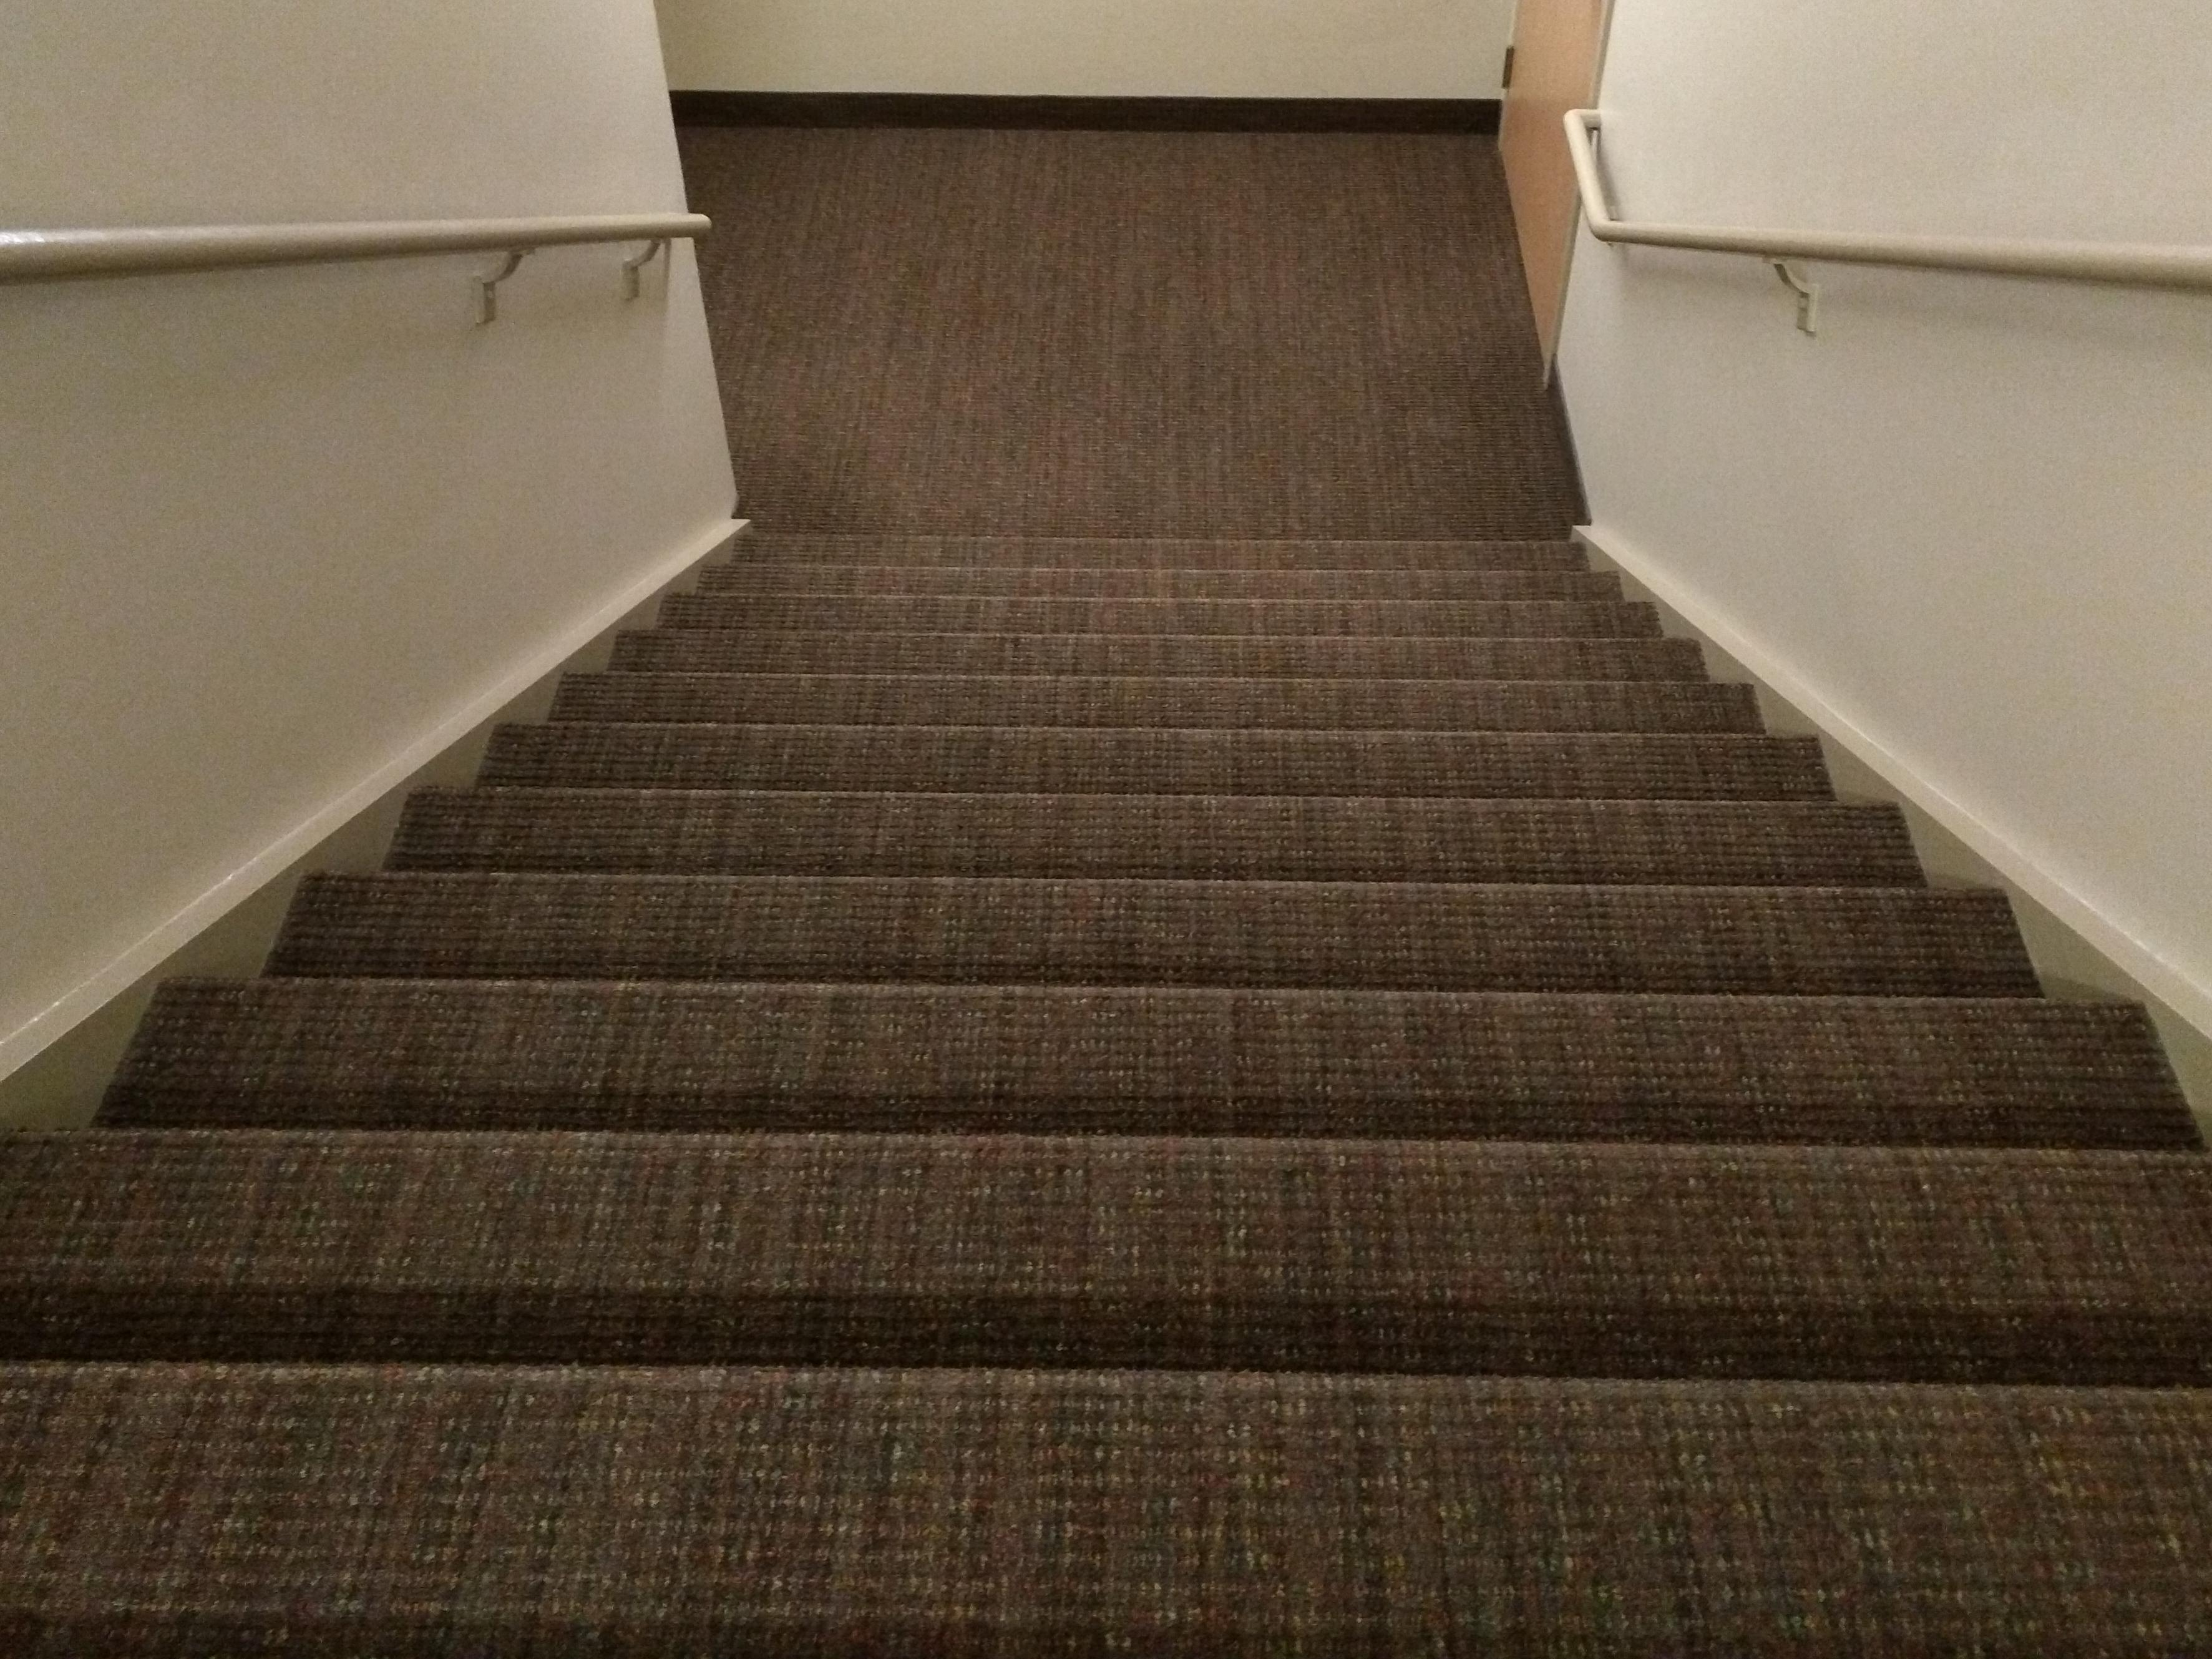stairs_down: (7, 484, 2212, 1459)
